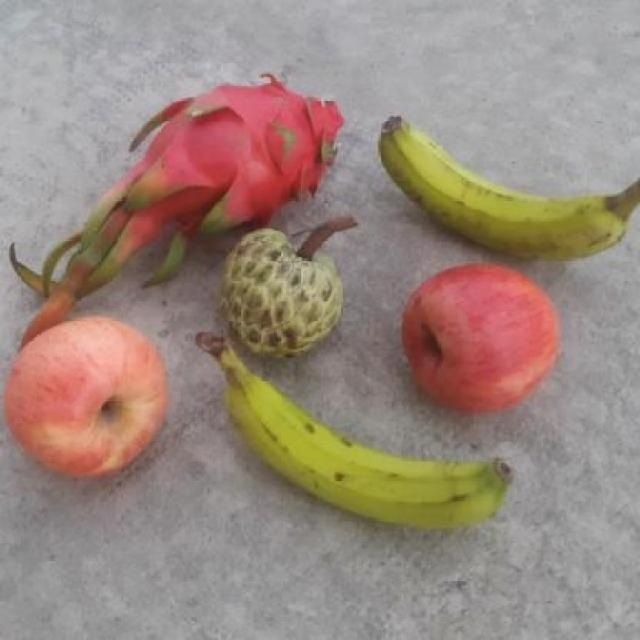apple: (3, 316, 169, 484), (400, 263, 568, 425)
banana: (195, 335, 520, 536), (372, 112, 640, 266)
dragon fruit: (116, 69, 350, 234)
sugar apple: (215, 218, 358, 356)
